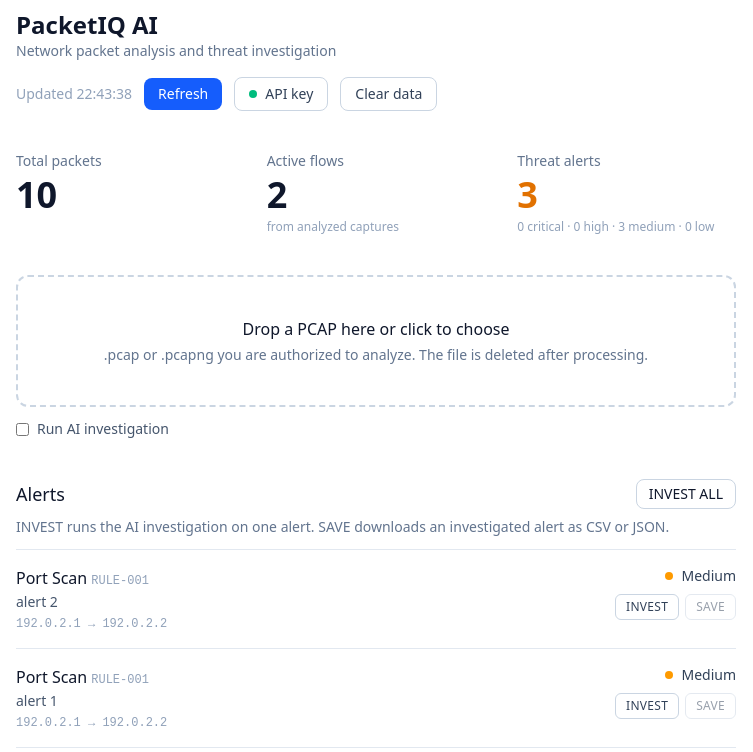
Test: INVEST ALL › stops at the first failed request and shows its message
Click the button "INVEST ALL" at [686, 494], box [636,479,736,509]
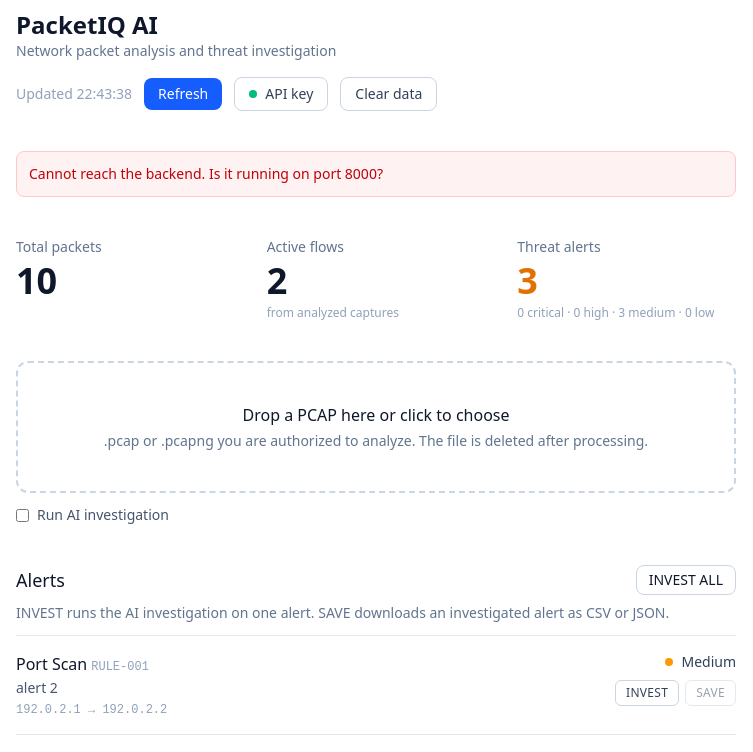
Expected: the message shows "Cannot reach the backend", [29,164,383,183]
